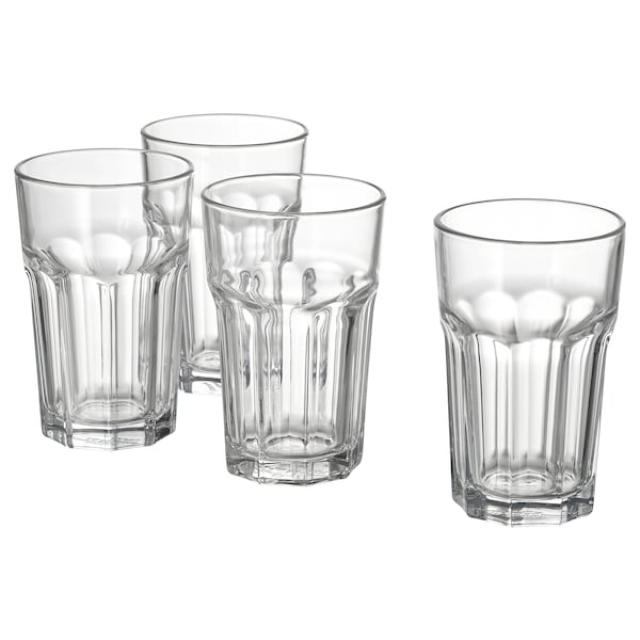glass: (429, 171, 621, 527), (194, 168, 391, 514), (20, 134, 209, 483)
